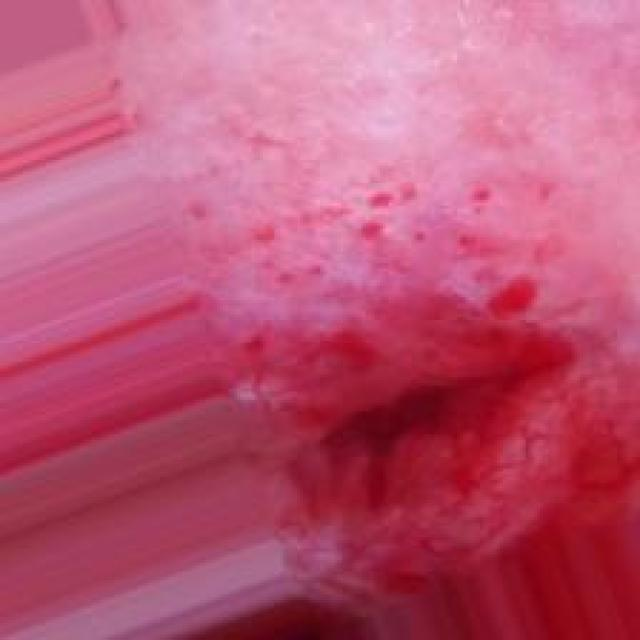type-1: (132, 13, 636, 630)
